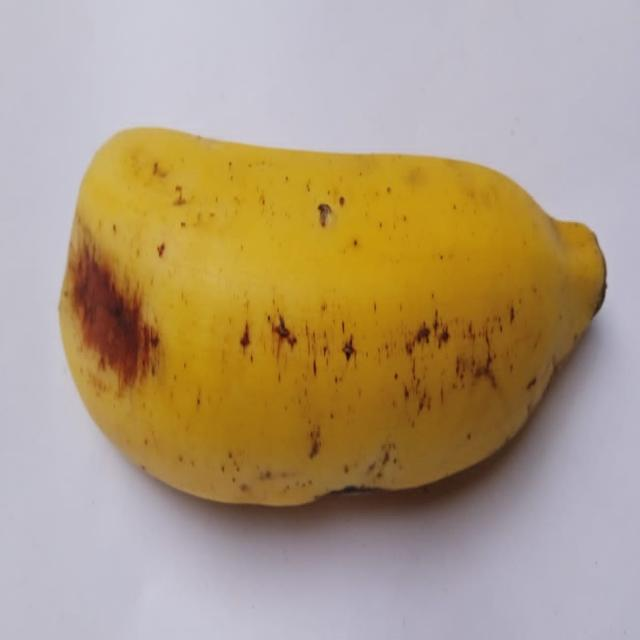banana: (59, 129, 605, 505)
